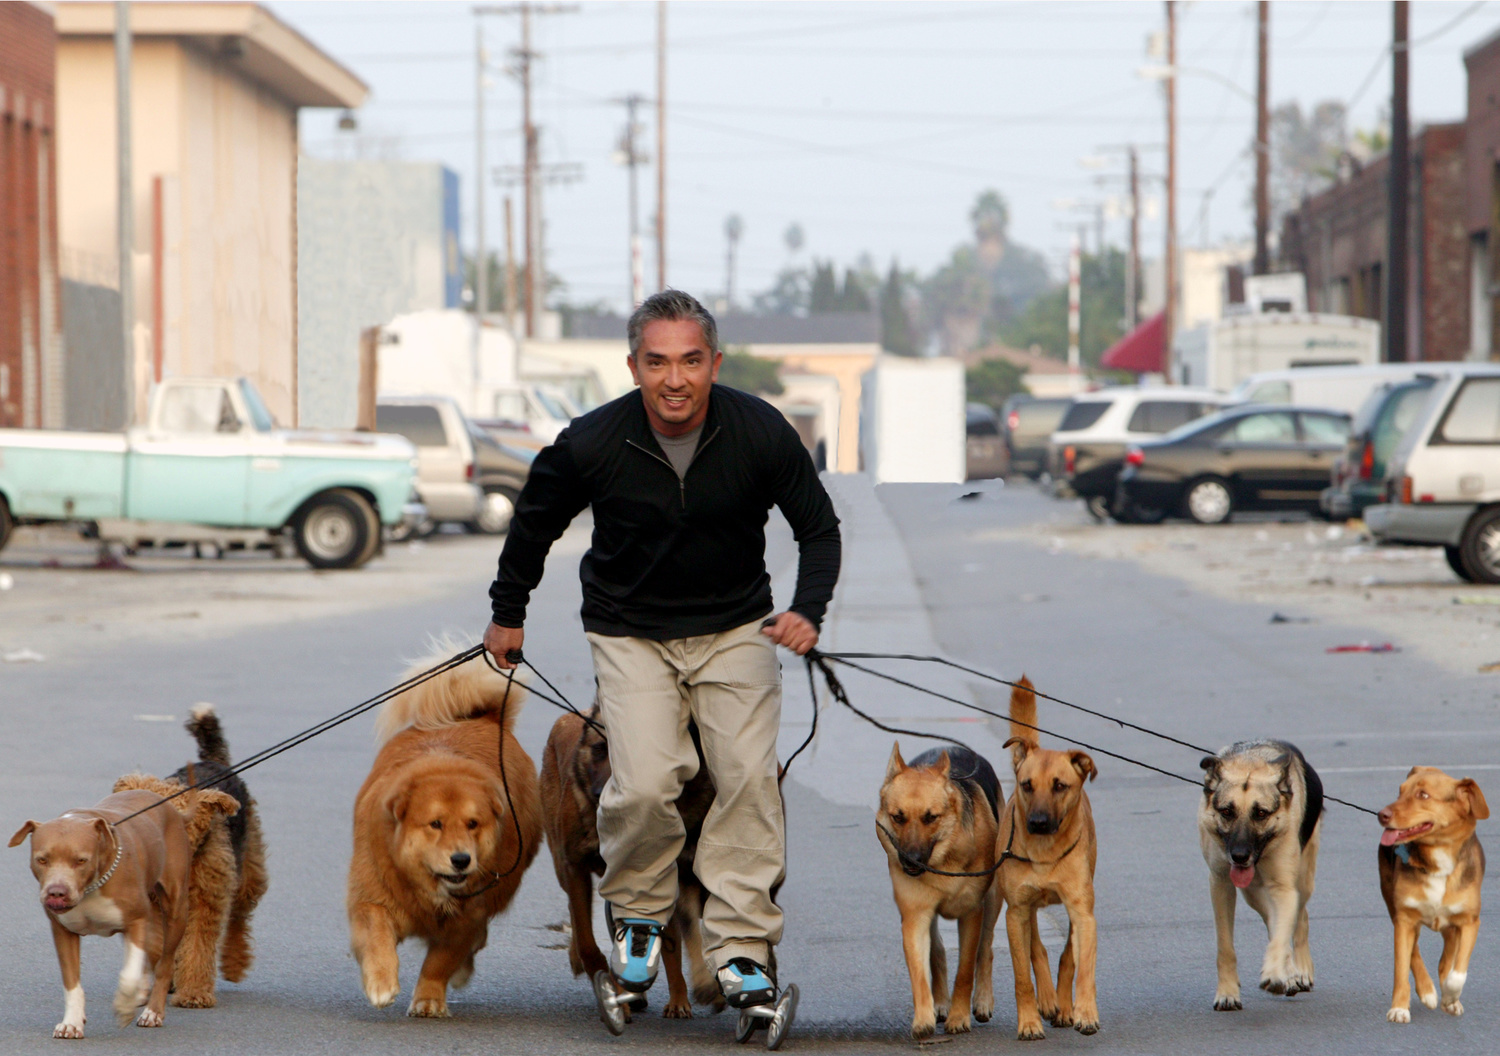kopek: (360, 649, 534, 1048), (1194, 713, 1337, 1024), (987, 679, 1102, 1053), (11, 789, 187, 1011), (153, 702, 271, 1016), (868, 745, 982, 1034), (1377, 751, 1493, 1029)
